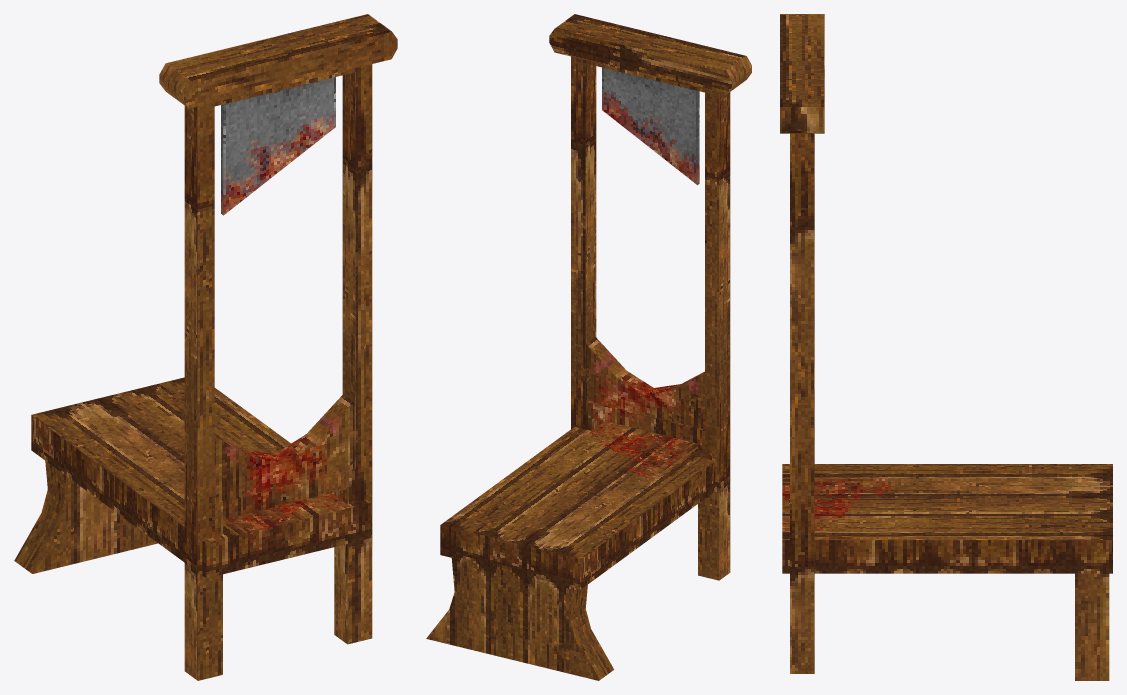
File: Guillotine.gltf
3 views of the same model, side by side, from view 1: azimuth 30°, elevation 25°; view 2: azimuth 150°, elevation 25°; view 3: azimuth 270°, elevation 25° (orthographic). The views are drawn at different scales.
Parts seen in each view (by area): view 1: Guillotine; view 2: Guillotine; view 3: Guillotine.
Part boxes in pixels (left/top/right/bottom): Guillotine: left=14, top=14, right=397, bottom=680; Guillotine: left=426, top=14, right=751, bottom=680; Guillotine: left=780, top=14, right=1112, bottom=680.
Bounding box in the file's own units: 3.53 × 9.55 × 5.03.
Materials: 1 (1 with a texture image).
